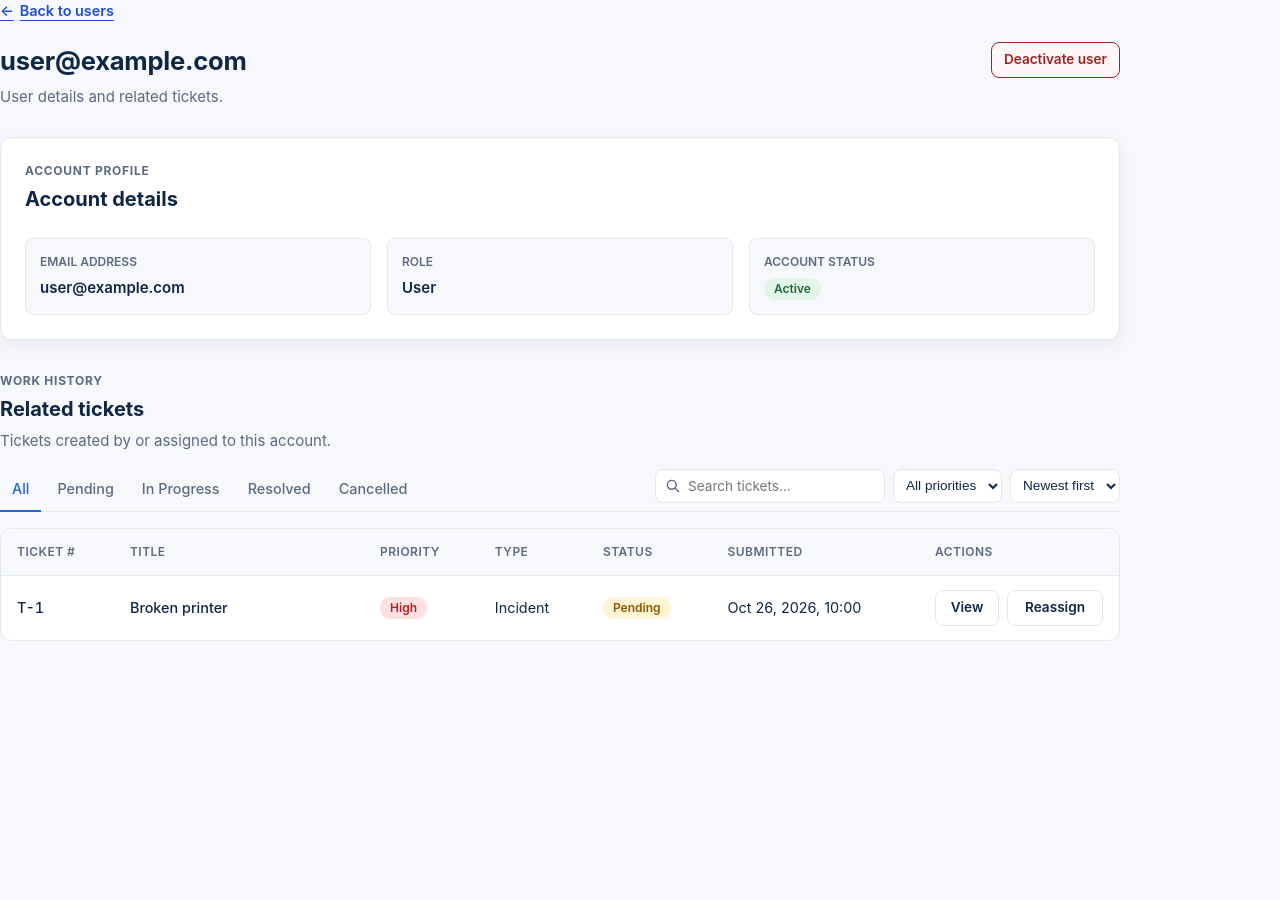
Test: UserDetailsComponent › lets administrators deactivate an active non-admin after confirmation
The width and height of the screenshot is (1280, 900).
Click the button "Deactivate user".
click(1055, 60)  # box [991,42,1120,78]
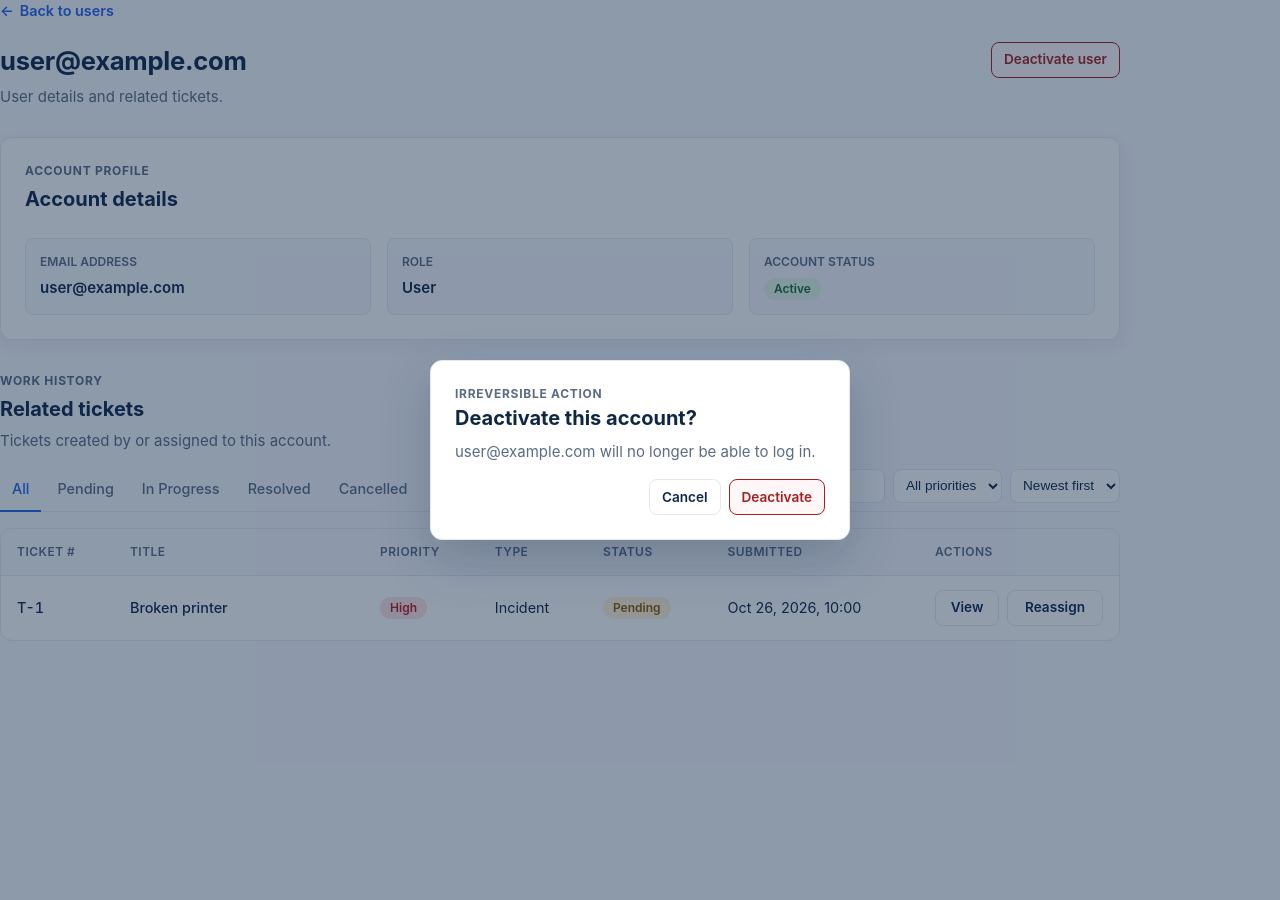
Click the button "Deactivate".
click(777, 497)  # box [728,479,825,515]
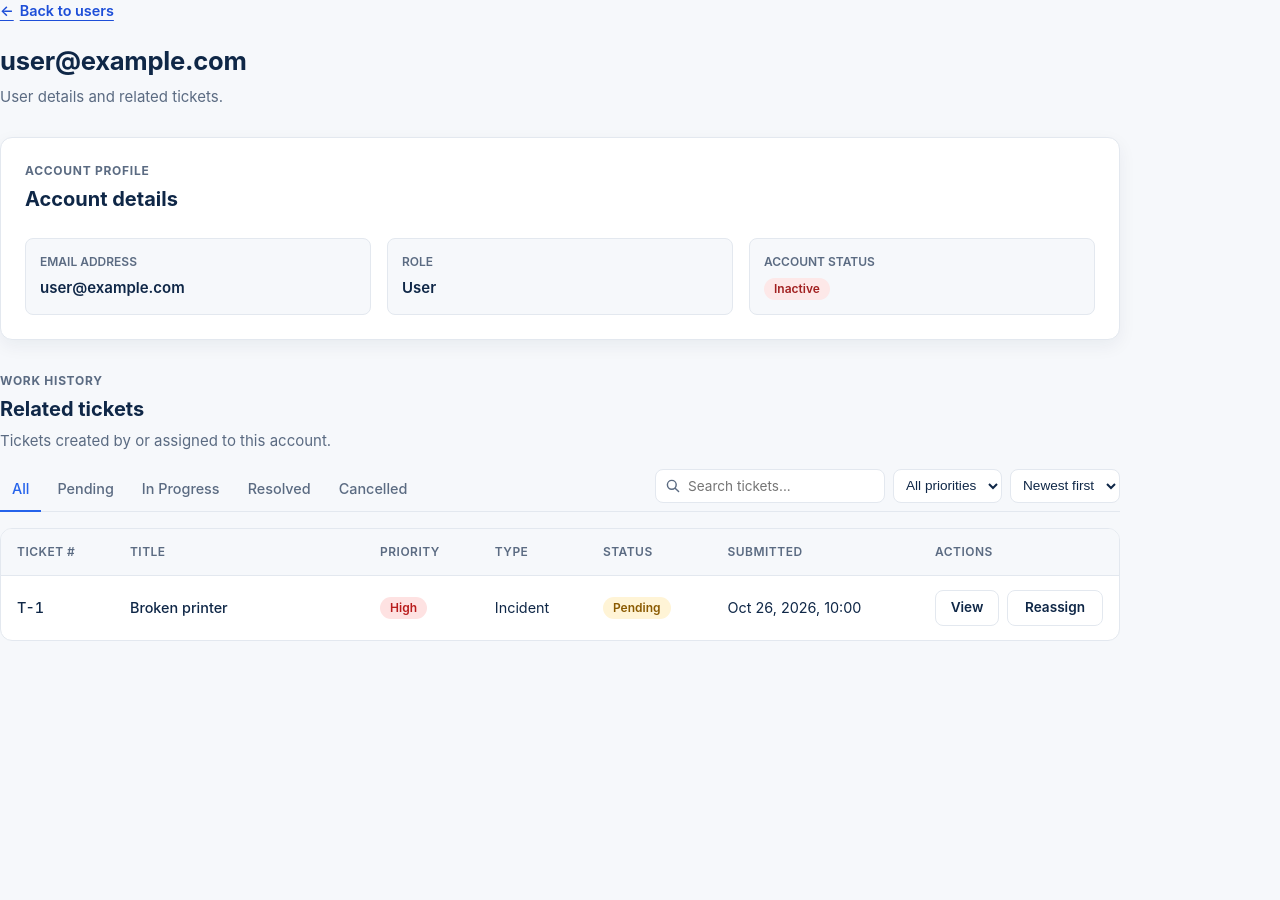
Check: the text "Inactive" is shown, box [764,278,830,300]
Check: the text "Deactivate user" is gone
